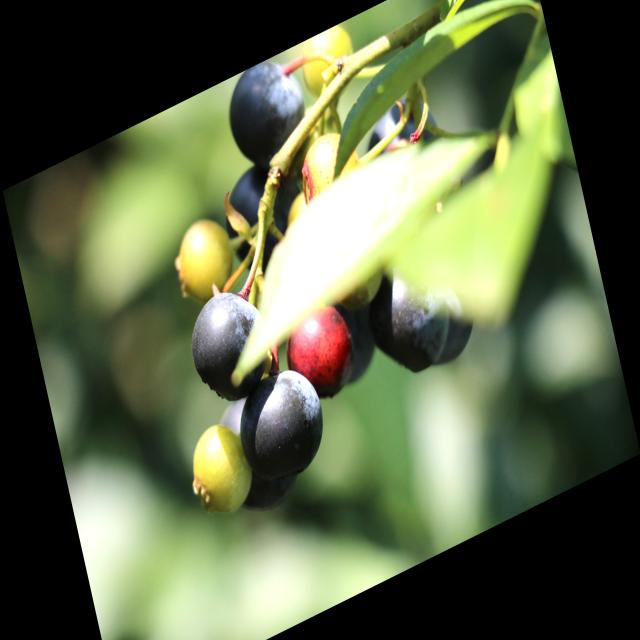blueberry: (354, 247, 466, 408), (205, 368, 311, 532), (213, 138, 320, 296), (226, 348, 336, 498), (178, 273, 279, 427), (218, 45, 319, 185), (350, 74, 446, 177), (319, 278, 388, 406), (415, 294, 485, 382)
blueberry-halfripe: (280, 290, 358, 409)
blueberry-unripe: (162, 195, 245, 309), (182, 407, 260, 527), (297, 120, 367, 214), (294, 18, 364, 101)
